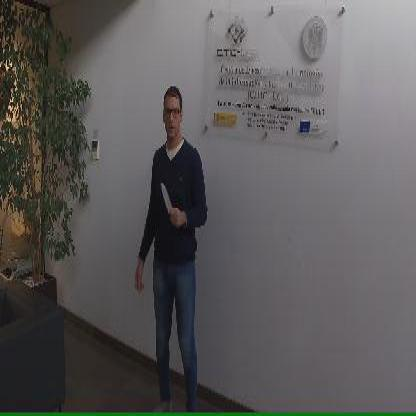knife: (158, 177, 178, 228)
